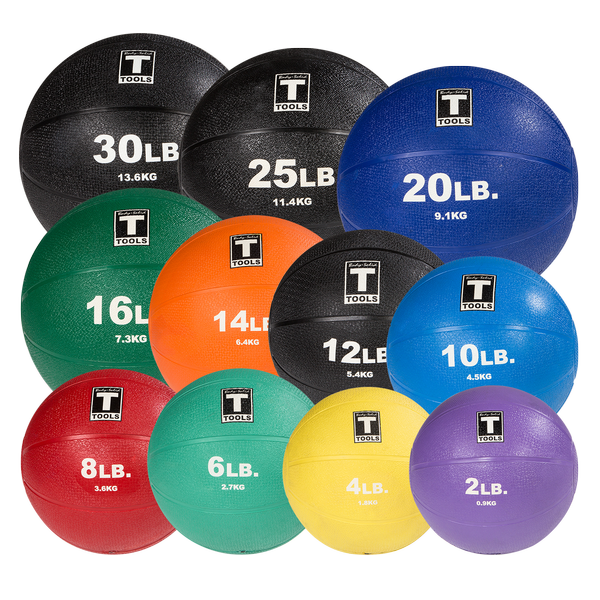blue ball: (336, 65, 580, 277), (387, 256, 580, 414)
red ball: (20, 367, 177, 556)
